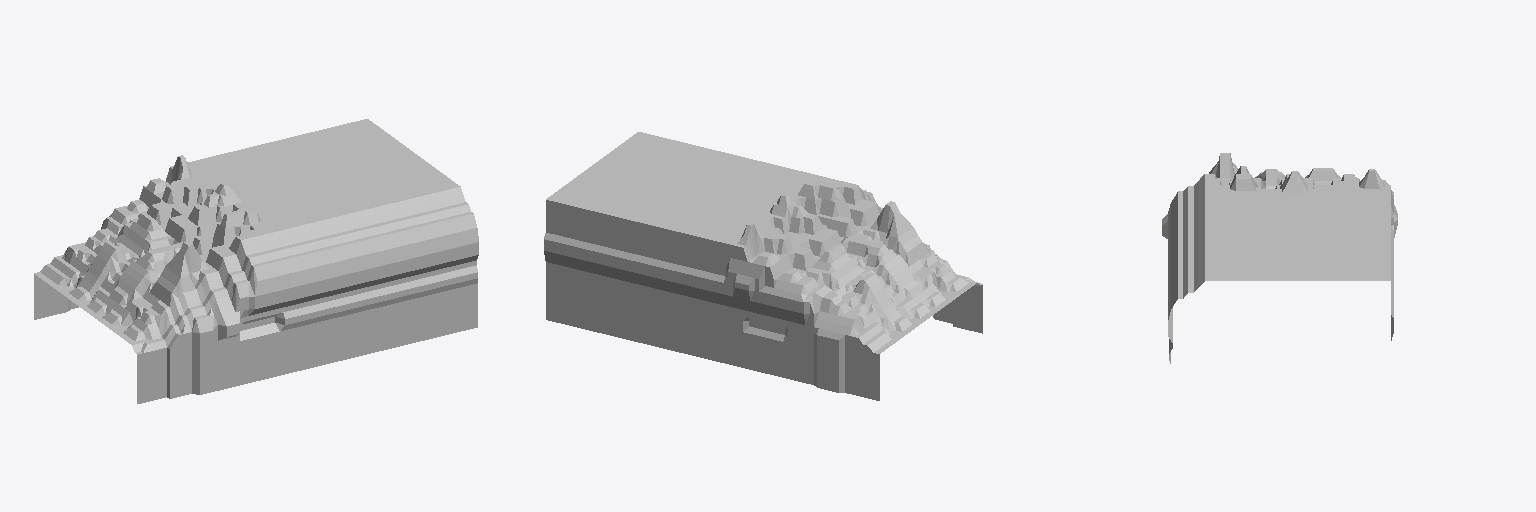
The model's file is mMountainLeft2.obj.
3 renders of one model, left to right at view 1: azimuth 30°, elevation 25°; view 2: azimuth 150°, elevation 25°; view 3: azimuth 270°, elevation 25°, orthographic.
Visible parts, largest first — view 1: mMountainLeft2; view 2: mMountainLeft2; view 3: mMountainLeft2.
Boxes of the visible parts, x1,y1,x2,y2 form: mMountainLeft2: [34, 119, 478, 403]; mMountainLeft2: [544, 132, 982, 400]; mMountainLeft2: [1162, 153, 1397, 363].
Size of the model in its own units: 92.07 by 38.16 by 56.23.